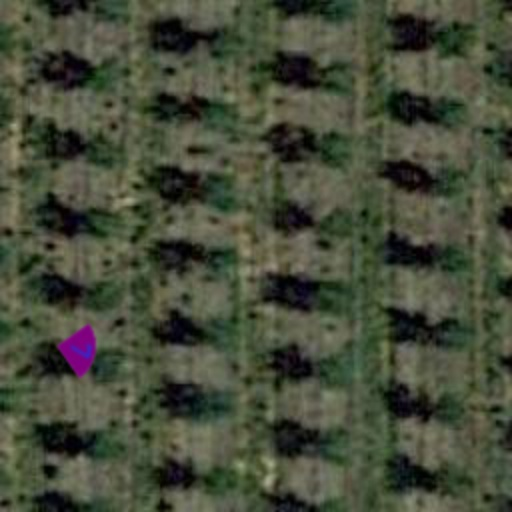quarter_circle: (48, 318, 112, 382)
